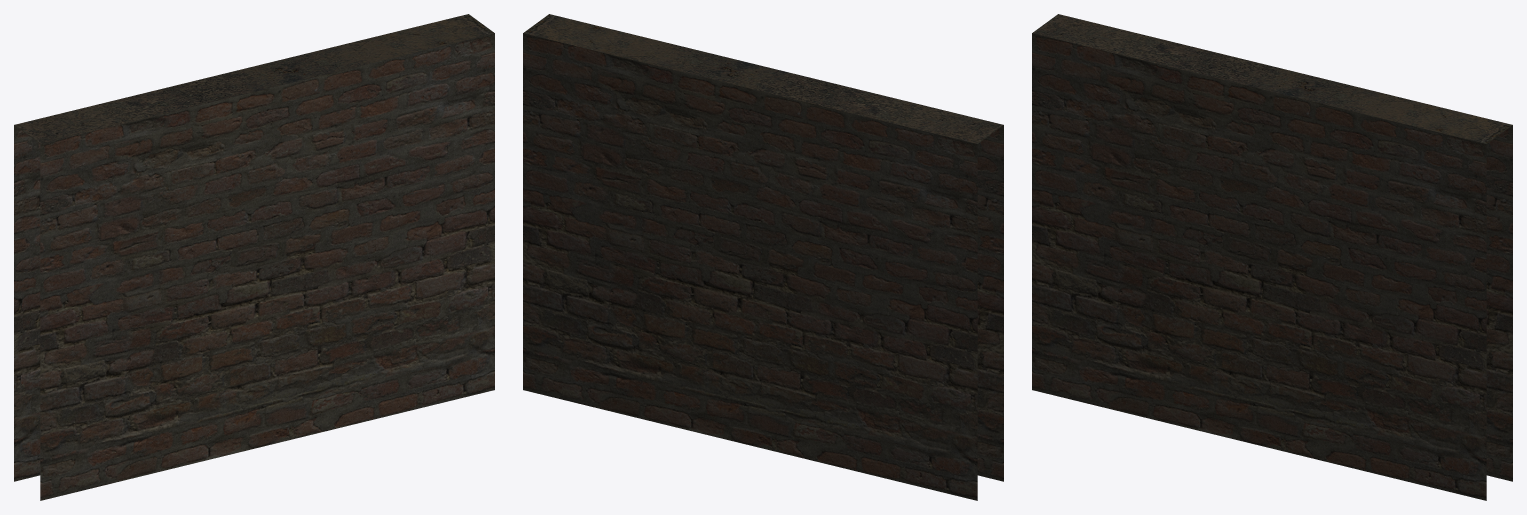
The model's file is wall_hr_2.fbx.
The picture shows the model from 3 angles, left to right: view 1: azimuth 30°, elevation 25°; view 2: azimuth 150°, elevation 25°; view 3: azimuth 330°, elevation 25°; orthographic projection.
Visible parts, largest first — view 1: wall_hr_2; view 2: wall_hr_2; view 3: wall_hr_2.
Boxes of the visible parts, left/top/right/bottom form: wall_hr_2: left=14, top=14, right=494, bottom=500; wall_hr_2: left=523, top=14, right=1003, bottom=500; wall_hr_2: left=1032, top=14, right=1512, bottom=500.
Bounding box in the file's own units: 4 × 0.4 × 3.
